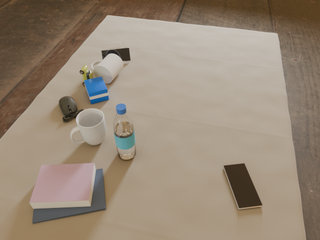book: (32, 169, 106, 224), (30, 163, 96, 209)
bottle: (113, 104, 136, 160)
box: (84, 76, 109, 104)
cup: (70, 109, 106, 145), (91, 53, 123, 83)
mouse: (59, 96, 86, 122)
phone: (223, 163, 262, 209), (101, 47, 131, 61)
toy_car: (80, 65, 93, 86)
